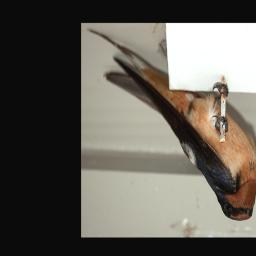Swallow: (85, 33, 256, 222)
